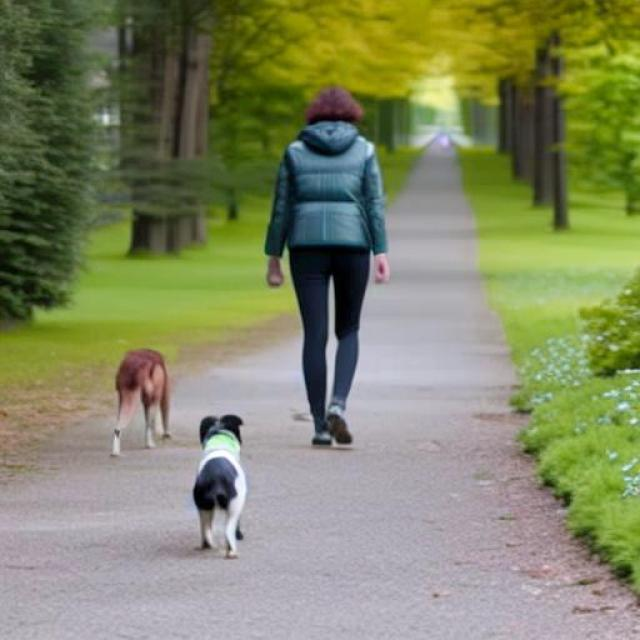Unleashed_Dog: (192, 247, 370, 559), (110, 247, 370, 459)
